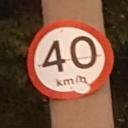speed_limit_40: (23, 20, 115, 100)
